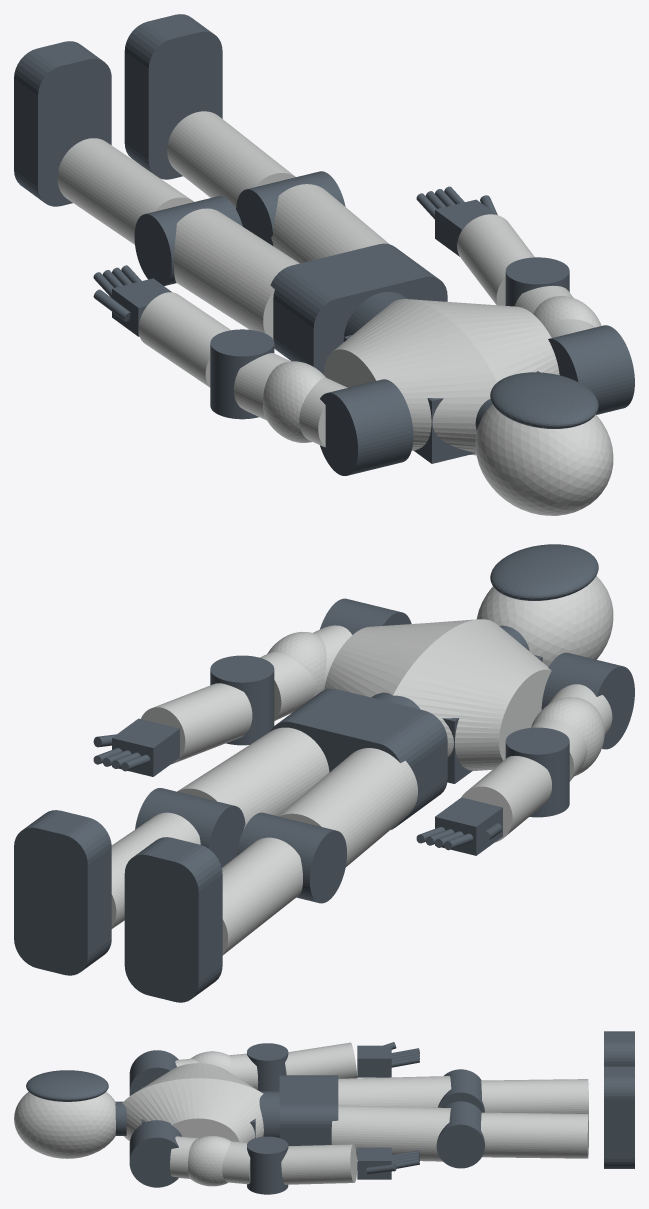
File: assembly.glb
3 renders of one model, top to bottom at view 1: azimuth 30°, elevation 25°; view 2: azimuth 150°, elevation 25°; view 3: azimuth 270°, elevation 25°, orthographic. The views are drawn at different scales.
Parts seen in each view (by area): view 1: part-002, part-022, part-013, part-004, part-000, part-010, part-012, part-005, part-021, part-006, part-019, part-014 (+11 smaller); view 2: part-002, part-013, part-022, part-004, part-010, part-019, part-000, part-012, part-017, part-001, part-011, part-015 (+11 smaller); view 3: part-002, part-000, part-019, part-021, part-004, part-012, part-015, part-010, part-022, part-017, part-014, part-020 (+11 smaller).
Boxes of the visible parts, box(x1,y1,x2,y2) form: part-002: box(323, 299, 559, 455); part-022: box(124, 14, 222, 179); part-013: box(14, 41, 111, 206); part-004: box(270, 243, 447, 374); part-000: box(475, 404, 613, 515); part-010: box(173, 208, 299, 345); part-012: box(57, 138, 193, 244); part-005: box(320, 379, 413, 475); part-021: box(167, 111, 295, 208); part-006: box(234, 353, 347, 447); part-019: box(271, 184, 389, 263); part-014: box(548, 325, 634, 414); part-002: box(324, 619, 551, 770); part-013: box(124, 837, 222, 1002); part-022: box(14, 810, 111, 975); part-004: box(271, 688, 447, 829); part-010: box(278, 748, 417, 867); part-019: box(177, 727, 329, 829); part-000: box(476, 576, 613, 666); part-012: box(222, 837, 302, 955); part-017: box(141, 683, 252, 764); part-001: box(490, 544, 598, 600); part-011: box(236, 812, 346, 903); part-015: box(260, 625, 351, 720); part-002: box(122, 1063, 263, 1142); part-000: box(14, 1091, 115, 1158); part-019: box(331, 1105, 451, 1161); part-021: box(481, 1112, 588, 1158); part-004: box(279, 1075, 338, 1145); part-012: box(481, 1079, 588, 1113); part-015: box(170, 1136, 250, 1186); part-010: box(338, 1076, 451, 1107); part-022: box(604, 1066, 634, 1168); part-017: box(281, 1144, 357, 1184); part-014: box(129, 1120, 182, 1187); part-020: box(436, 1101, 484, 1168).
Size of the model in its own units: 0.0859 by 0.0335 by 0.18.
